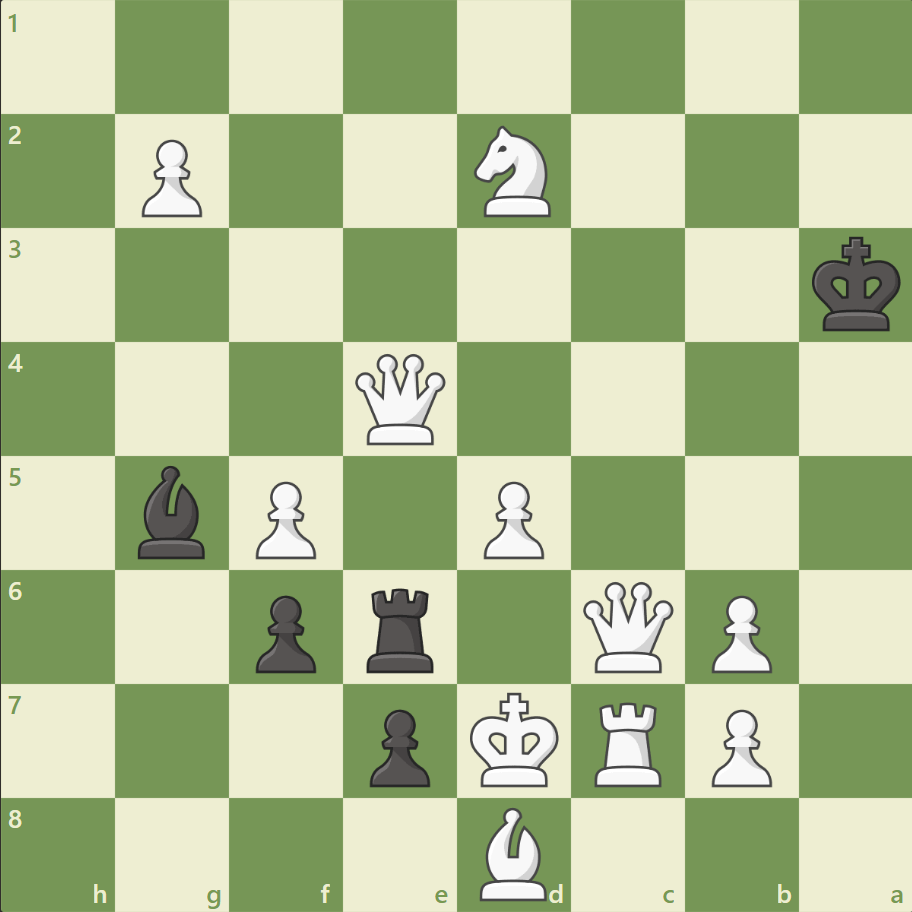B: (471, 801, 555, 904)
K: (465, 685, 565, 793)
N: (465, 121, 562, 223)
P: (701, 700, 776, 791), (701, 586, 776, 677), (474, 473, 549, 564), (247, 473, 322, 564), (133, 132, 208, 223)
Q: (578, 576, 677, 676), (351, 349, 450, 449)
R: (587, 693, 670, 790)
b: (131, 460, 215, 563)
k: (806, 231, 906, 339)
p: (247, 586, 322, 677), (361, 700, 435, 791)
r: (360, 579, 442, 676)
